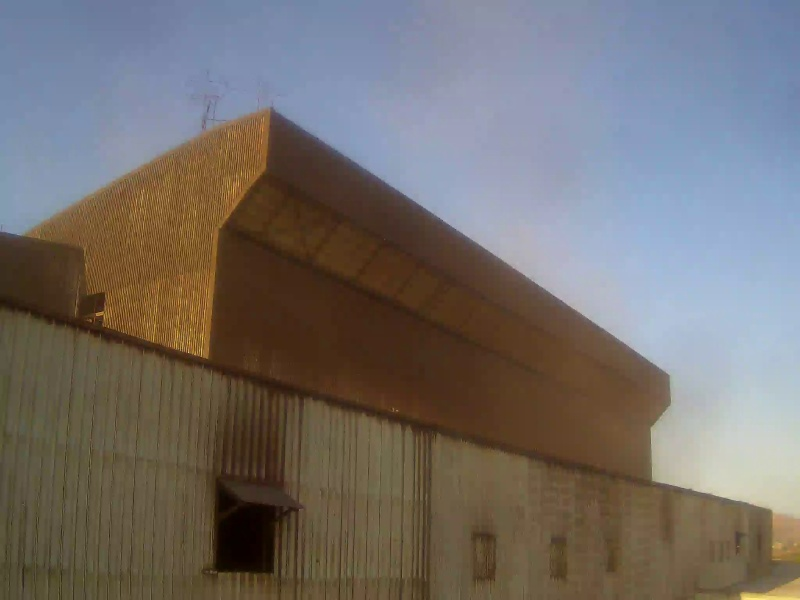ruim: (268, 110, 706, 482)
